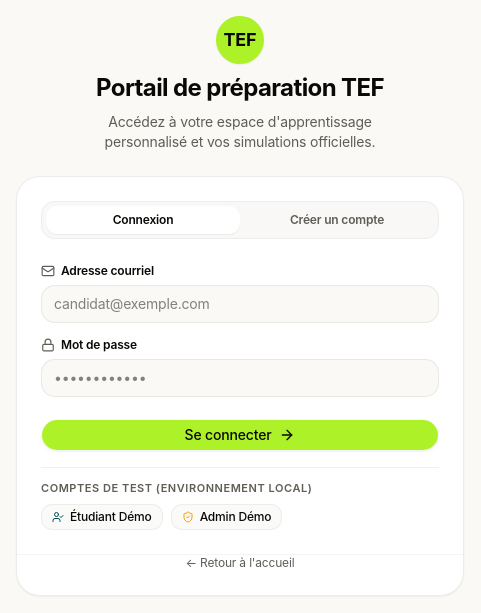
Test: Authentication Flow & Session Management › populates demo credentials when clicking Étudiant Démo
Click the button "Étudiant Démo": (102, 517) [41,504,163,530]
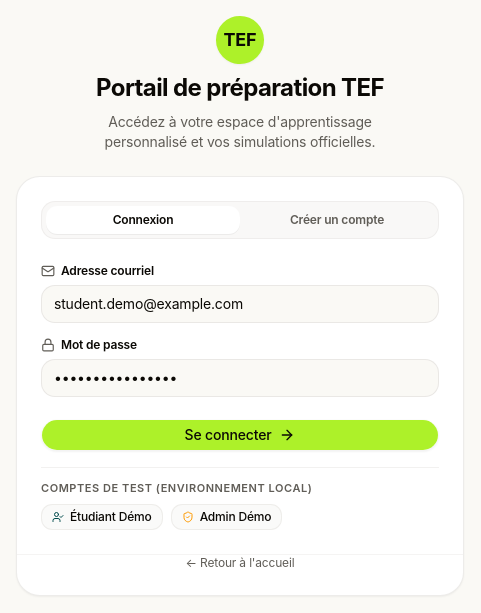
Expected: the field with placeholder "candidat@exemple.com" holds "student.demo@example.com", [41,285,439,323]
